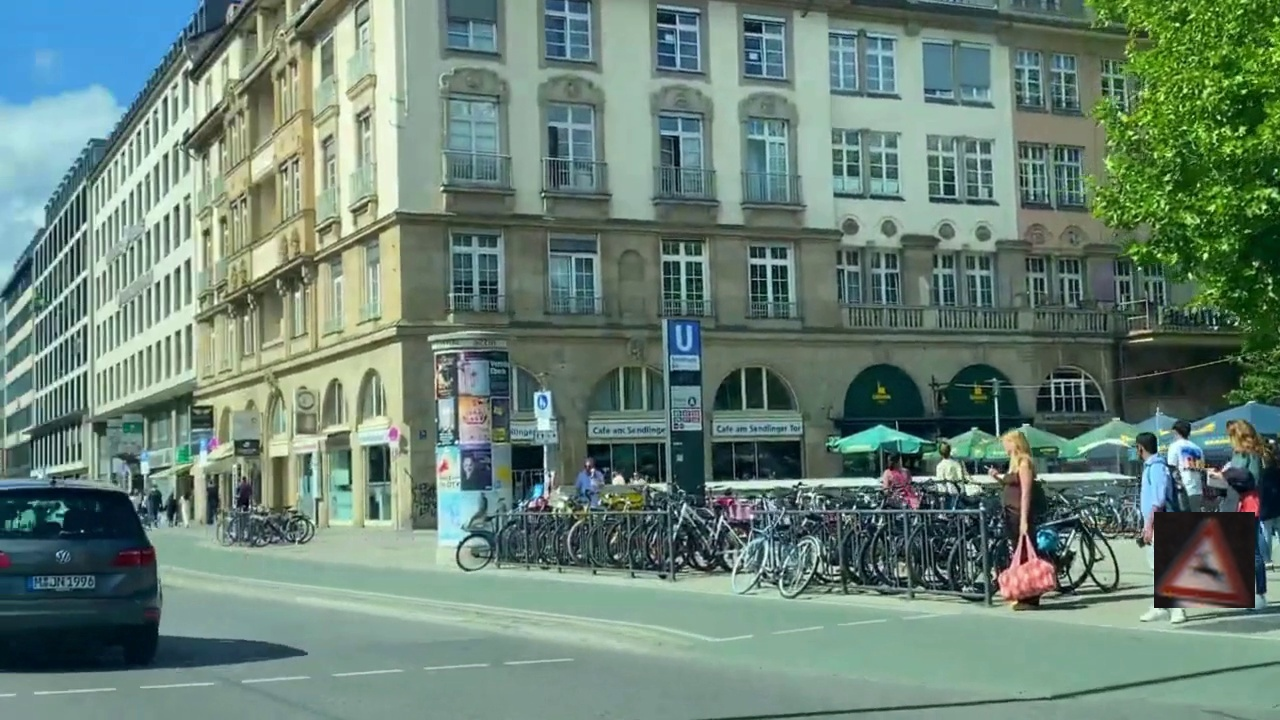Wild animals: (1154, 512, 1255, 608)
